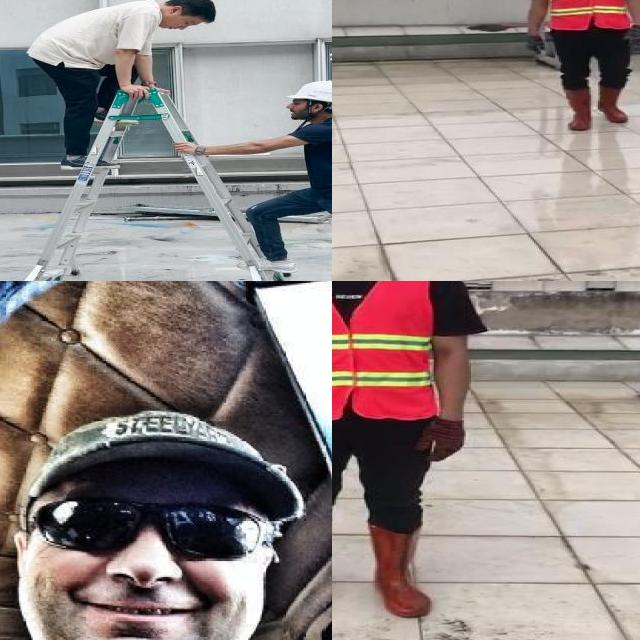boots: (364, 524, 434, 617), (560, 84, 596, 131), (594, 84, 632, 124)
face_nomask: (36, 493, 256, 640), (164, 13, 204, 34), (284, 96, 303, 119)
glasses: (24, 479, 278, 555)
hand_glove: (420, 419, 468, 462)
hand_noglove: (172, 136, 204, 156), (119, 80, 147, 102)
head_helmet: (285, 76, 332, 106)
head_nohelmet: (28, 420, 308, 506), (180, 0, 223, 25)
person: (332, 281, 486, 621), (20, 0, 218, 179), (236, 62, 332, 281), (520, 0, 640, 137)
shoes: (59, 147, 125, 174), (236, 249, 299, 275)
vest: (332, 281, 435, 421), (546, 0, 630, 32)
